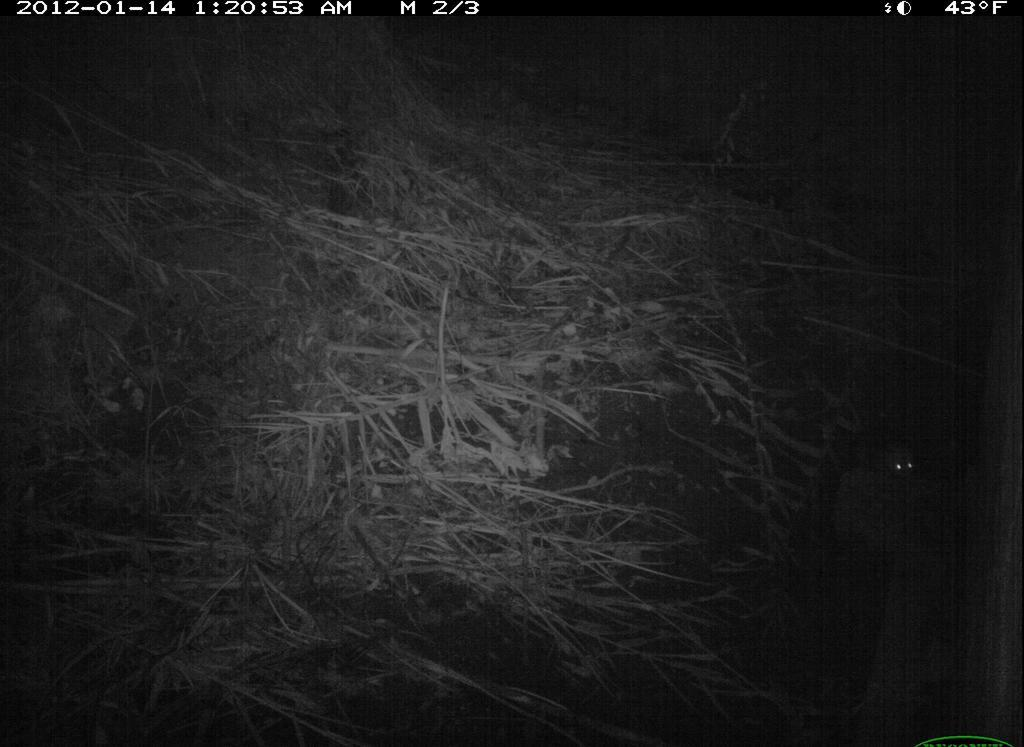opossum: (857, 423, 930, 496)
